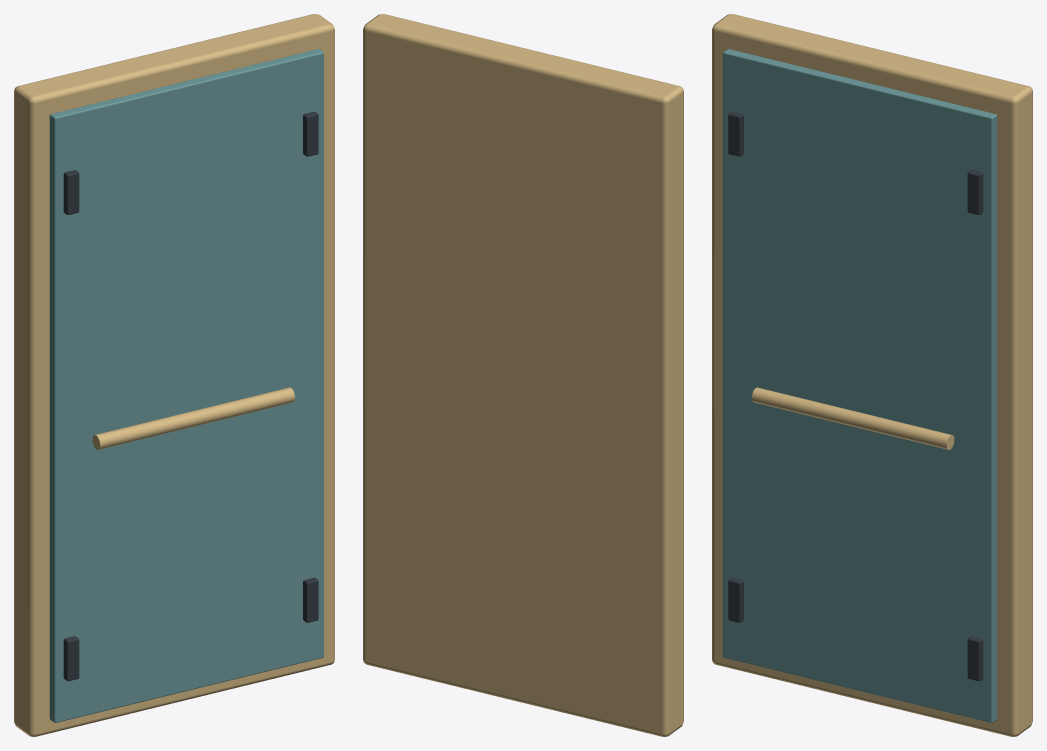
Rendered from abandoned-cinema-and-projection-booth-abandoned-cinema-99df1372__29720.glb.
3 views of the same model, side by side, from view 1: azimuth 30°, elevation 25°; view 2: azimuth 150°, elevation 25°; view 3: azimuth 330°, elevation 25° (orthographic).
Visible parts, largest first — view 1: abandoned-cinema-and-projection-booth-exit-door; view 2: abandoned-cinema-and-projection-booth-exit-door; view 3: abandoned-cinema-and-projection-booth-exit-door.
Boxes of the visible parts, x1,y1,x2,y2 form: abandoned-cinema-and-projection-booth-exit-door: (14,14,334,736); abandoned-cinema-and-projection-booth-exit-door: (363,14,683,736); abandoned-cinema-and-projection-booth-exit-door: (712,14,1032,736).
Bounding box in the file's own units: 1.1 × 2.2 × 0.2041.
